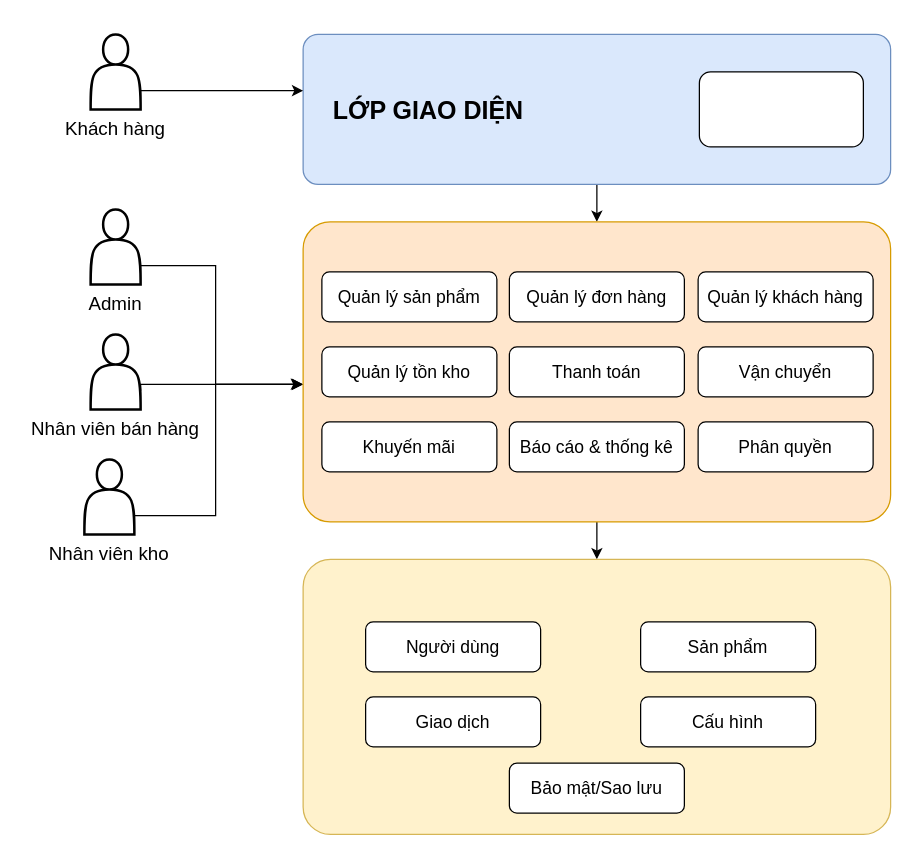
Image size: 913x856. Some labels were removed from this diagram. The shapes that lost their labels are listed below. From the top down, each one's box as (x1, y1, x2, y2) in pixels, then its label:
(698, 71, 863, 147): Giao diện Web
(302, 221, 891, 522): LỚP NGHIỆP VỤ
(302, 558, 891, 834): LỚP DỮ LIỆU
